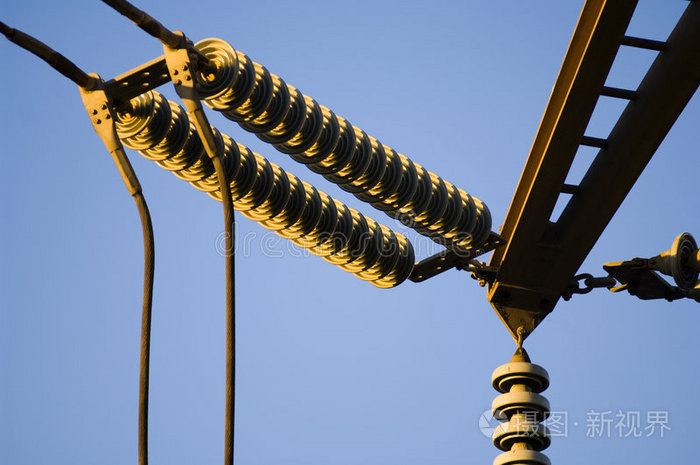insulator: (190, 37, 492, 245), (115, 95, 415, 288), (491, 362, 562, 465), (665, 228, 698, 290)
